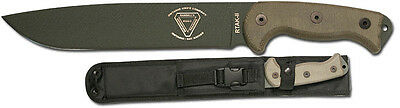knief: (1, 3, 397, 55)
